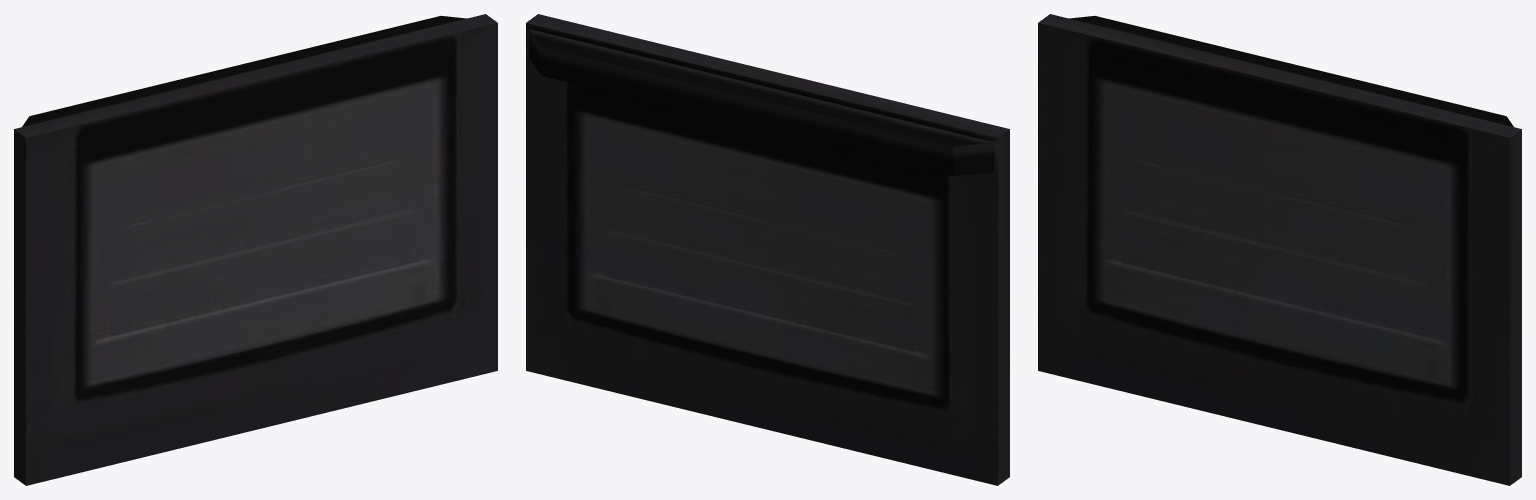
Rendered from Stove_door_02.glb.
The picture shows the model from 3 angles, left to right: view 1: azimuth 30°, elevation 25°; view 2: azimuth 150°, elevation 25°; view 3: azimuth 330°, elevation 25°; orthographic projection.
Parts seen in each view (by area): view 1: Stove_door_02; view 2: Stove_door_02; view 3: Stove_door_02.
Boxes of the visible parts, x1=… form: Stove_door_02: x1=14, y1=14, x2=497, y2=485; Stove_door_02: x1=526, y1=14, x2=1009, y2=485; Stove_door_02: x1=1038, y1=14, x2=1521, y2=485.
Size of the model in its own units: 0.8921 by 0.6288 by 0.0882.
1 material, 1 textured.
